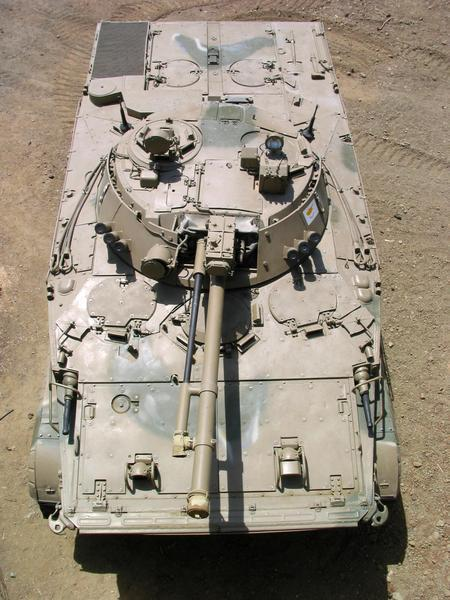MIL_IFV: (25, 18, 407, 543)
